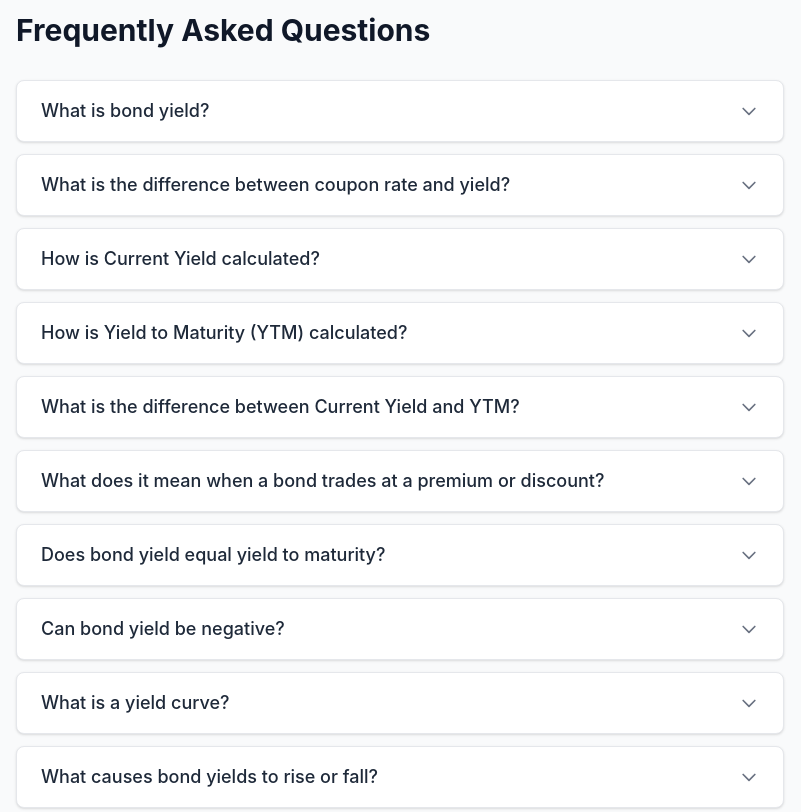
Test case: FaqPage › hides answer when same question is clicked again
The width and height of the screenshot is (801, 812).
Click the button "What is bond yield?" at point(125, 110), box [17,81,783,141]
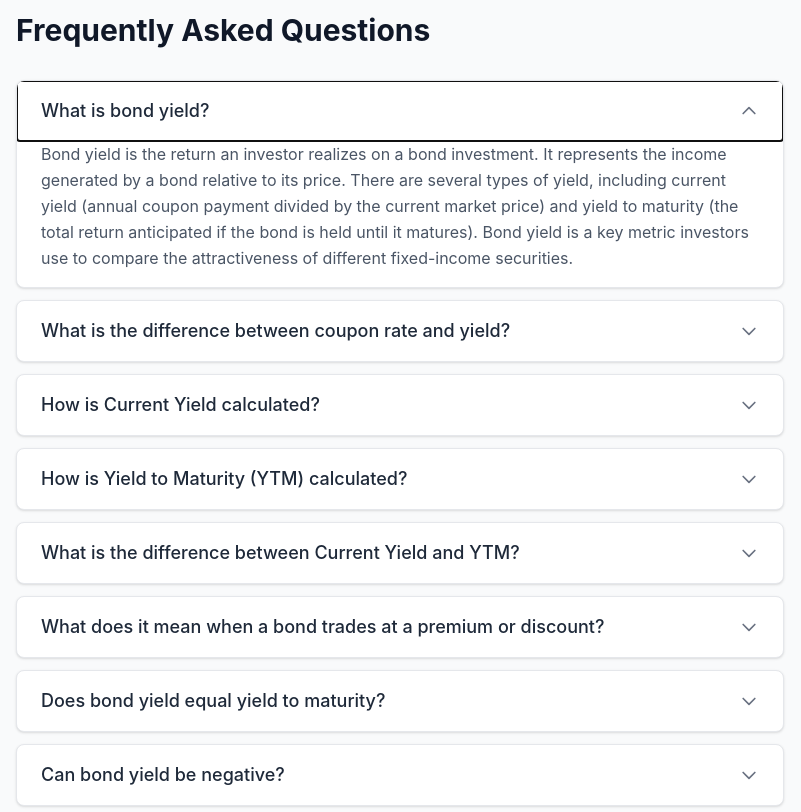
expect the text "Bond yield is the return an investor realizes on a bond investment. It represents the income generated by a bond relativ" is shown: met, box [41,144,749,268]
Click the button "What is bond yield?" at point(125, 110), box [17,81,783,141]
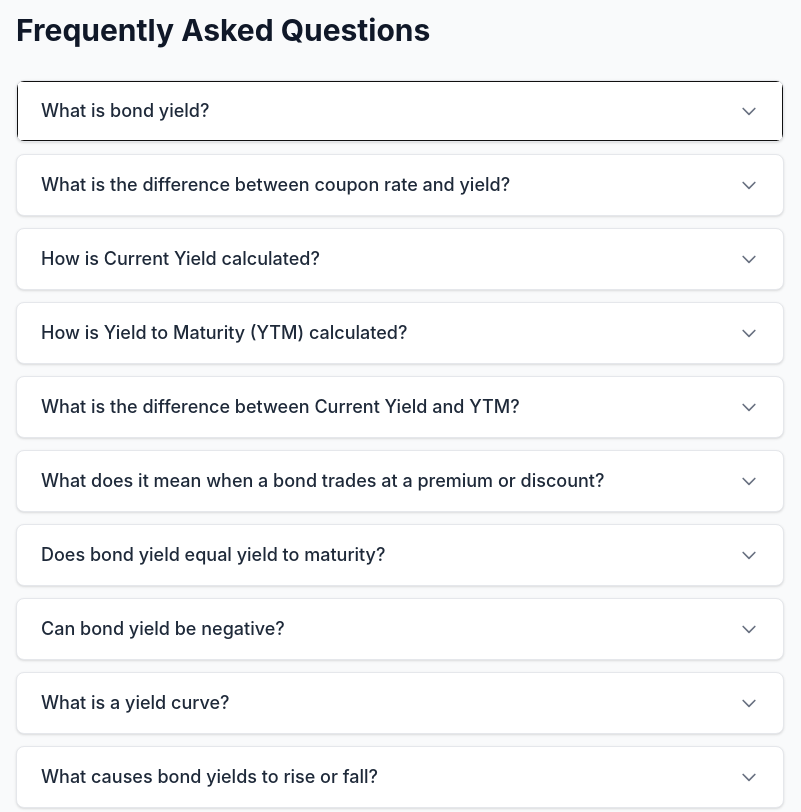
expect the text "Bond yield is the return an investor realizes on a bond investment. It represents the income generated by a bond relativ" is gone: met
